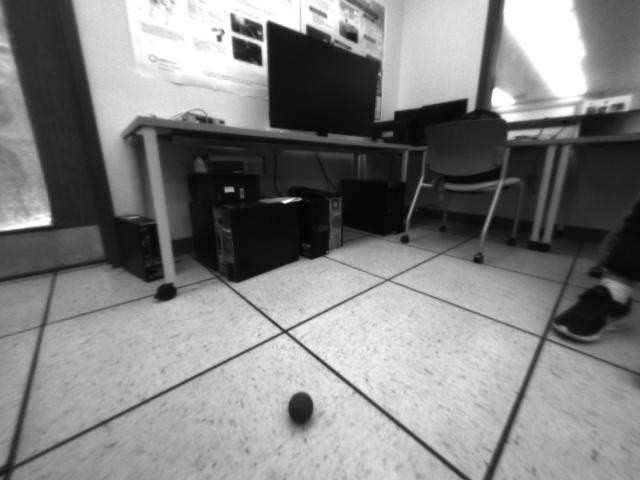dogtoy: (283, 388, 321, 429)
